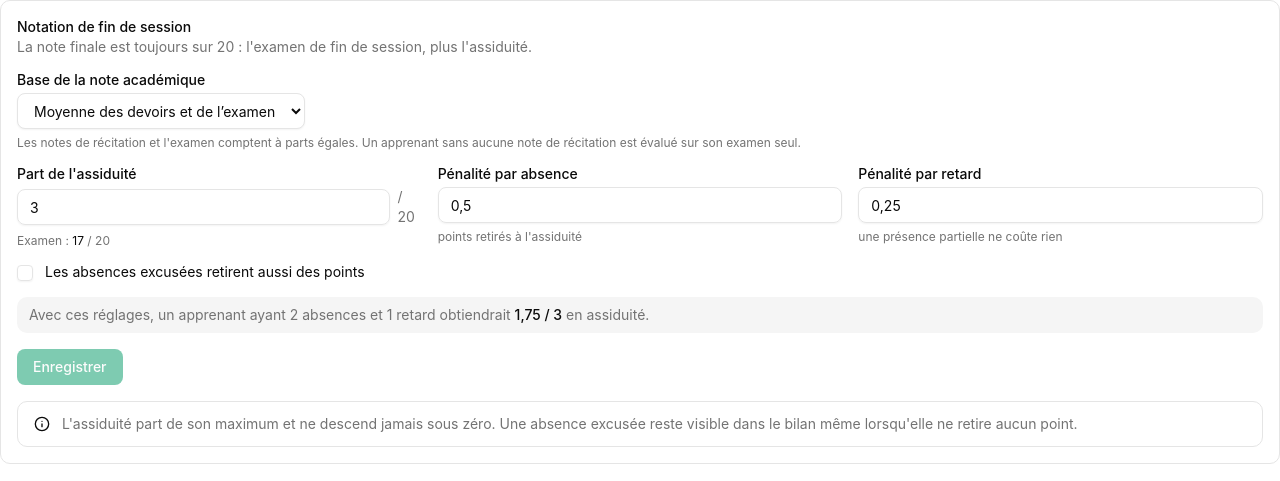
SectionNotation › recalcule l’exemple quand les pénalités changent
Replace the text in the field labelled "Pénalité par absence" with "1": (640, 205) [438,187,842,223]
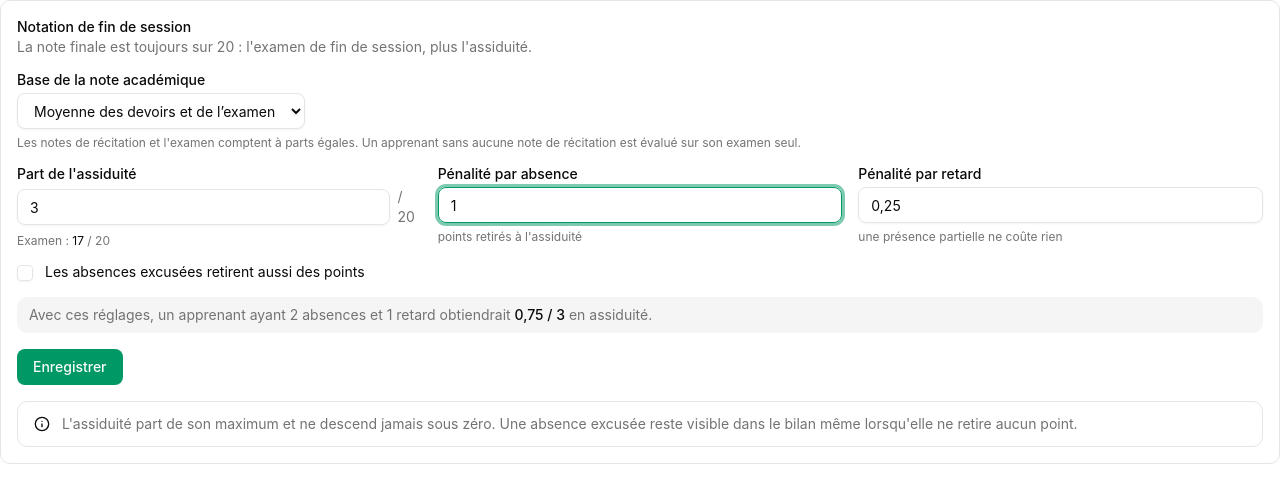
Now the text "0,75 / 3" is shown, box [515,306,565,323]
